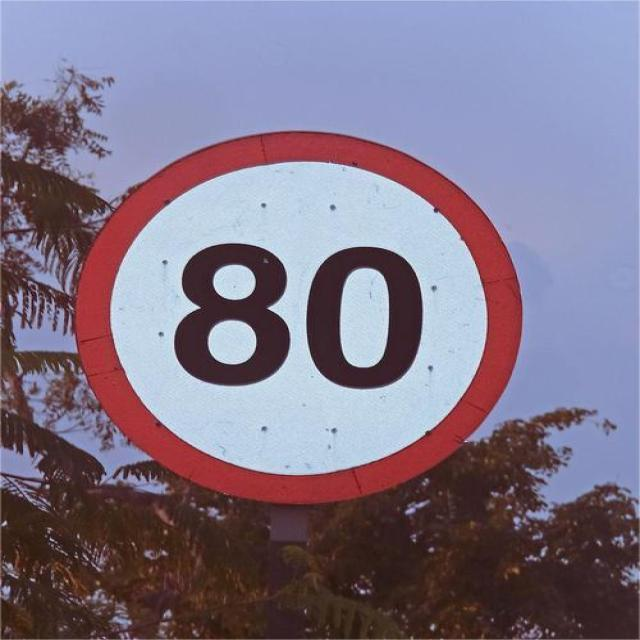speed limit 80: (75, 129, 524, 503)
